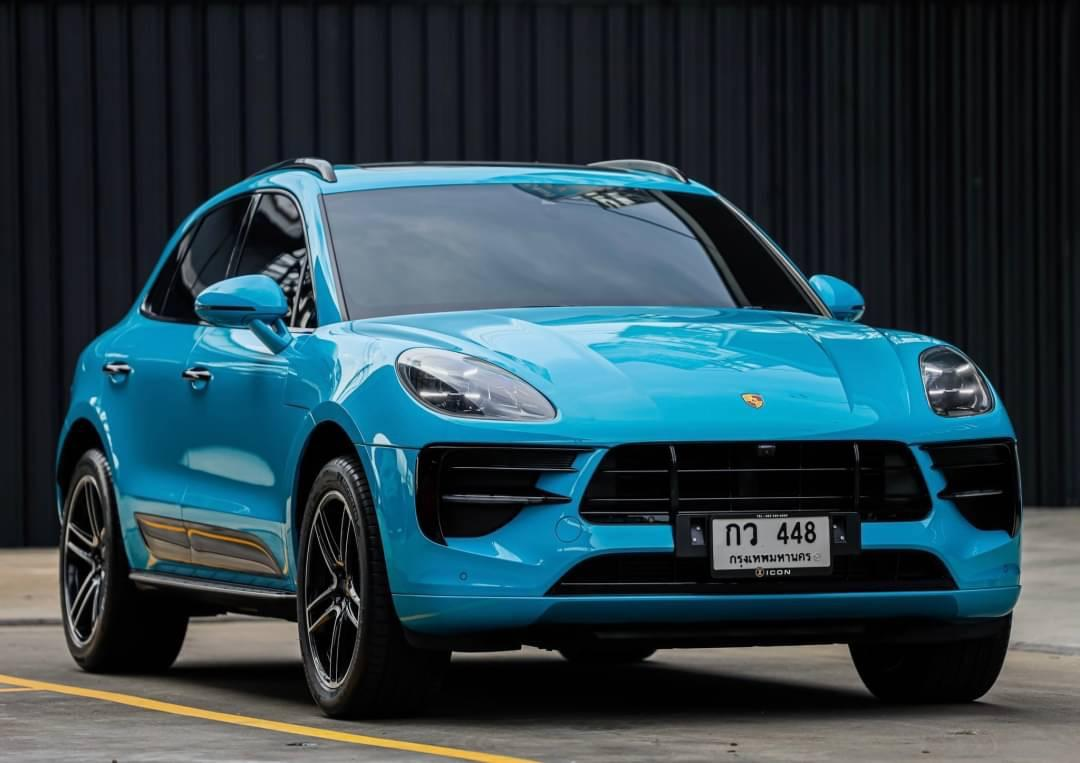license-plate: (708, 514, 837, 580)
